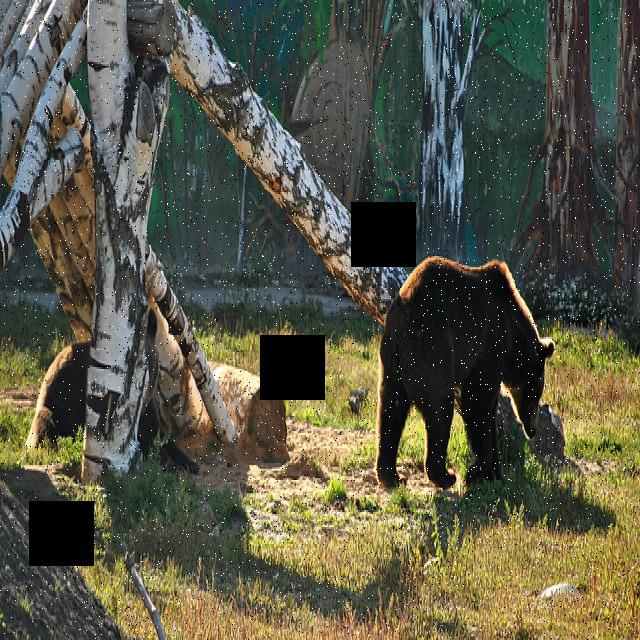Bear: (373, 248, 554, 494)
